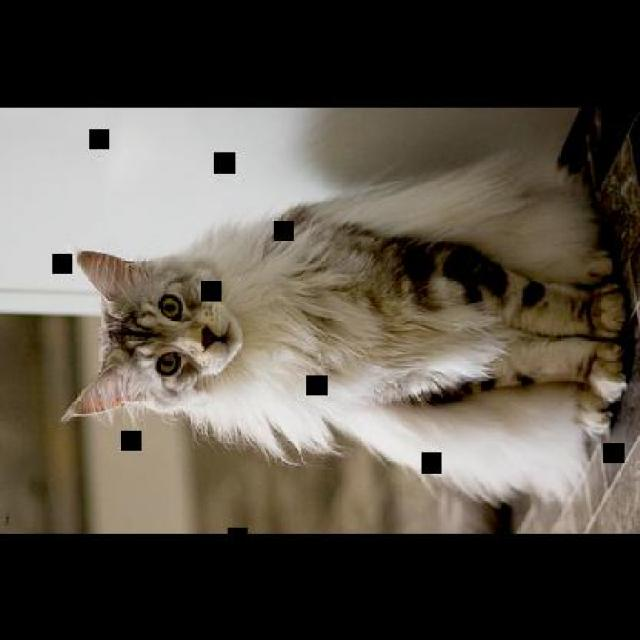unauthorized: (57, 128, 634, 506)
